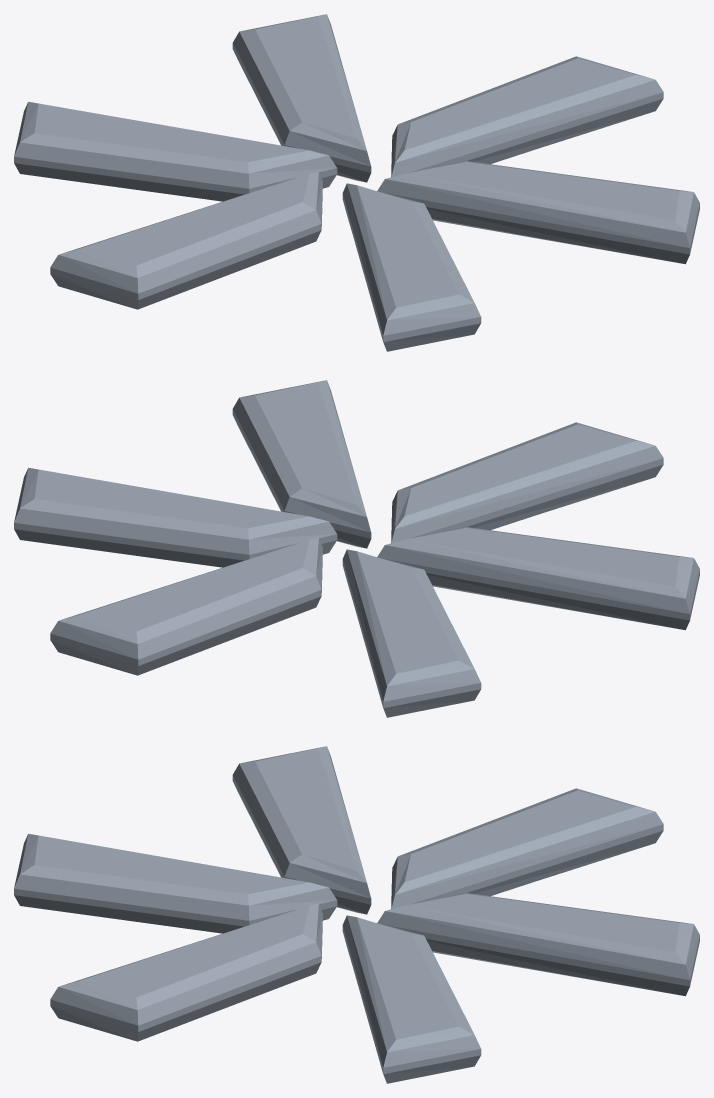
Rendered from aurora_x9_rotor.gltf.
The picture shows the model from 3 angles, top to bottom: view 1: azimuth 30°, elevation 25°; view 2: azimuth 150°, elevation 25°; view 3: azimuth 270°, elevation 25°; orthographic projection.
Visible parts, largest first — view 1: aurora_x9_rotor; view 2: aurora_x9_rotor; view 3: aurora_x9_rotor.
Boxes of the visible parts, left/top/right/bottom form: aurora_x9_rotor: left=14, top=14, right=699, bottom=351; aurora_x9_rotor: left=14, top=380, right=699, bottom=717; aurora_x9_rotor: left=14, top=746, right=699, bottom=1083.
Size of the model in its own units: 0.9425 by 0.059 by 0.8751.
